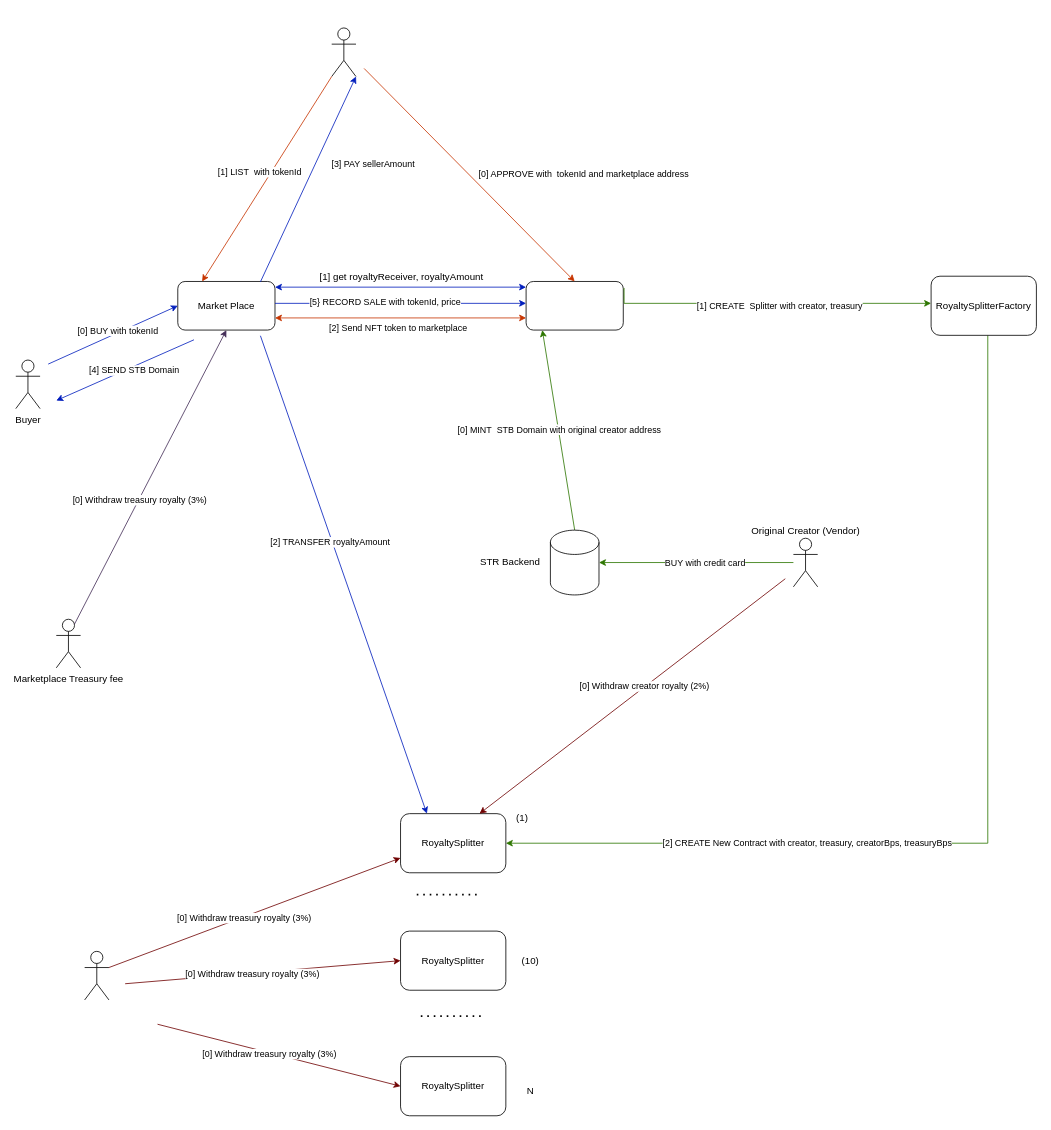
The diagram is 1051 pixels wide and 1130 high, and some of its shapes have lost their labels. The centre of each missing label's shape, as x and y in pixels:
Minter: (x=574, y=562)
Seller: (x=343, y=52)
STR Domain NFT Collection: (x=574, y=305)
STR Domains Collection Treasury: (x=96, y=975)
